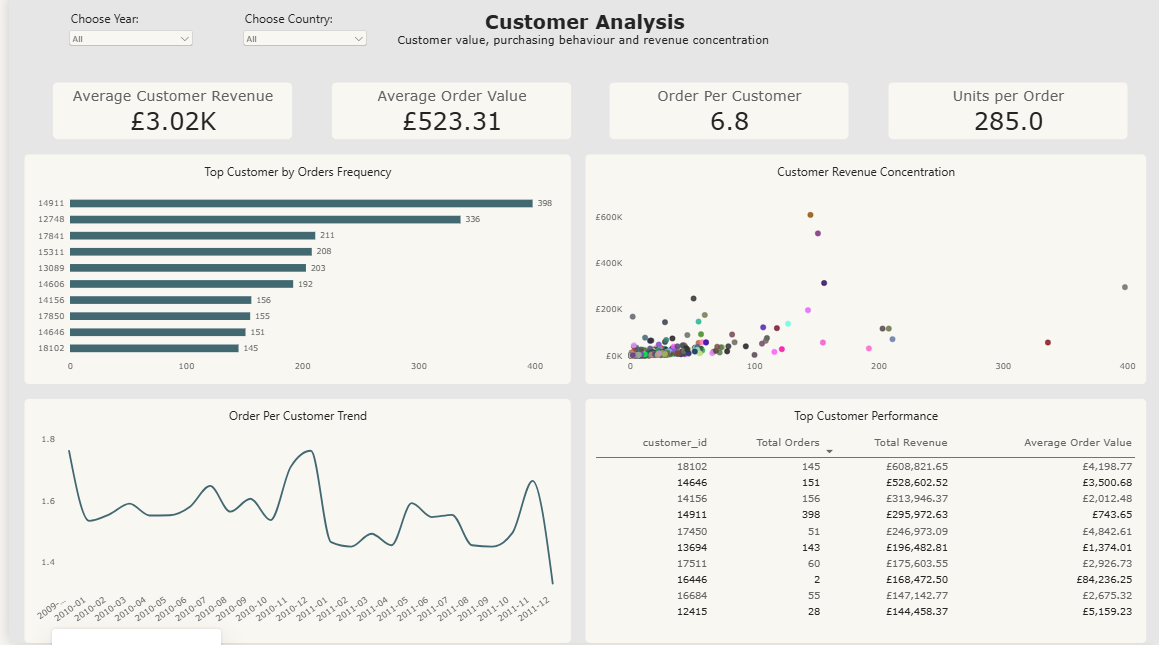

Layout of this report page (visuals, bound fields, positions):
{"tool":"powerbi","page":{"name":"Customer Analysis  ","canvas":[1920,1080],"ordinal":1},"visuals":[{"type":"textbox","box":[0,24,1920,96],"z":0},{"type":"cardVisual","fields":{"Data":["Measures (2).Average Customer Revenue"]},"box":[72,144,400,96],"z":0,"group":"g1"},{"type":"slicer","fields":{"Values":["calendar.year"]},"box":[96,24,216,96],"z":1000},{"type":"cardVisual","fields":{"Data":["Measures (2).Units per Order"]},"box":[1464,144,400,96],"z":1000,"group":"g1"},{"type":"slicer","fields":{"Values":["retail_transactions.country"]},"box":[384,24,216,96],"z":2000},{"type":"cardVisual","fields":{"Data":["Measures (2).Order Per Customer"]},"box":[1000,144,400,96],"z":2000,"group":"g1"},{"type":"group","id":"g1","title":"Group 1","box":[72,144,1824,96],"z":3000},{"type":"cardVisual","fields":{"Data":["Measures (2).Average Order Value"]},"box":[536,144,400,96],"z":3000,"group":"g1"},{"type":"barChart","title":"Top Customer by Orders Frequency","fields":{"Category":["retail_transactions.customer_id"],"Y":["Measures (2).Total Orders"]},"box":[24,264,912,384],"z":4000},{"type":"scatterChart","title":"Customer Revenue Concentration","fields":{"Series":["retail_transactions.customer_id"],"X":["Measures (2).Total Orders"],"Y":["Measures (2).Total Revenue"]},"box":[960,264,936,384],"z":5000},{"type":"tableEx","title":"Top Customer Performance","fields":{"Values":["Sum(retail_transactions.customer_id)","Measures (2).Total Orders","Measures (2).Total Revenue","Measures (2).Average Order Value"]},"box":[960,672,936,408],"z":6000},{"type":"lineChart","title":"Order Per Customer Trend","fields":{"Category":["calendar.year-month"],"Y":["Measures (2).Order Per Customer"]},"box":[24,672,912,408],"z":7000}]}

Visuals, with their boxes in screenshot pixels (x1, y1, x2, y2), scaled from the page's 1920x1080 canvas onto the 1159x645 screenshot:
textbox: 0 14 1158 72
cardVisual - Measures (2).Average Customer Revenue: 43 86 285 143
slicer - calendar.year: 58 14 188 72
cardVisual - Measures (2).Units per Order: 884 86 1125 143
slicer - retail_transactions.country: 232 14 362 72
cardVisual - Measures (2).Order Per Customer: 604 86 845 143
"Group 1" group: 43 86 1145 143
cardVisual - Measures (2).Average Order Value: 324 86 565 143
"Top Customer by Orders Frequency" barChart: 14 158 565 387
"Customer Revenue Concentration" scatterChart: 580 158 1145 387
"Top Customer Performance" tableEx: 580 401 1145 644
"Order Per Customer Trend" lineChart: 14 401 565 644
